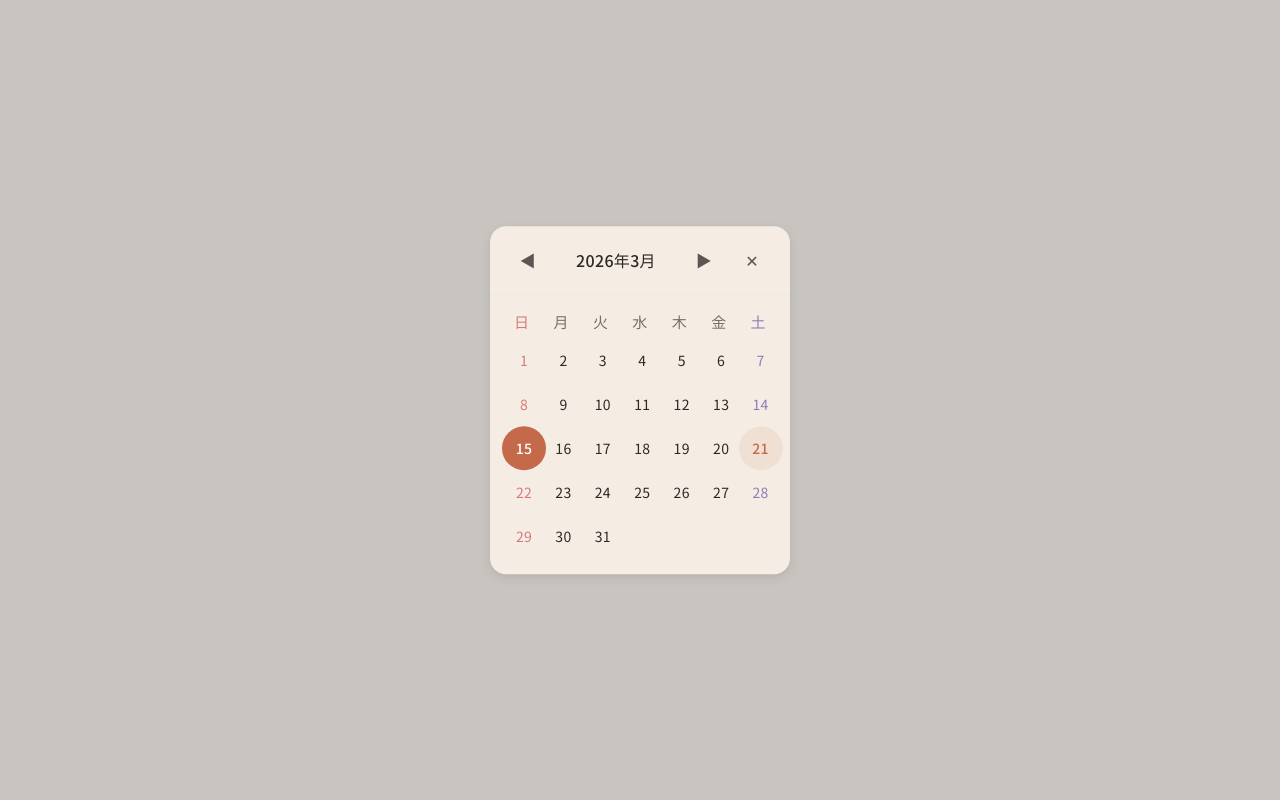
Test: DatePicker › navigates to previous month
The width and height of the screenshot is (1280, 800).
Click the button "◀". click: (528, 260)
box: left=506, top=238, right=550, bottom=282
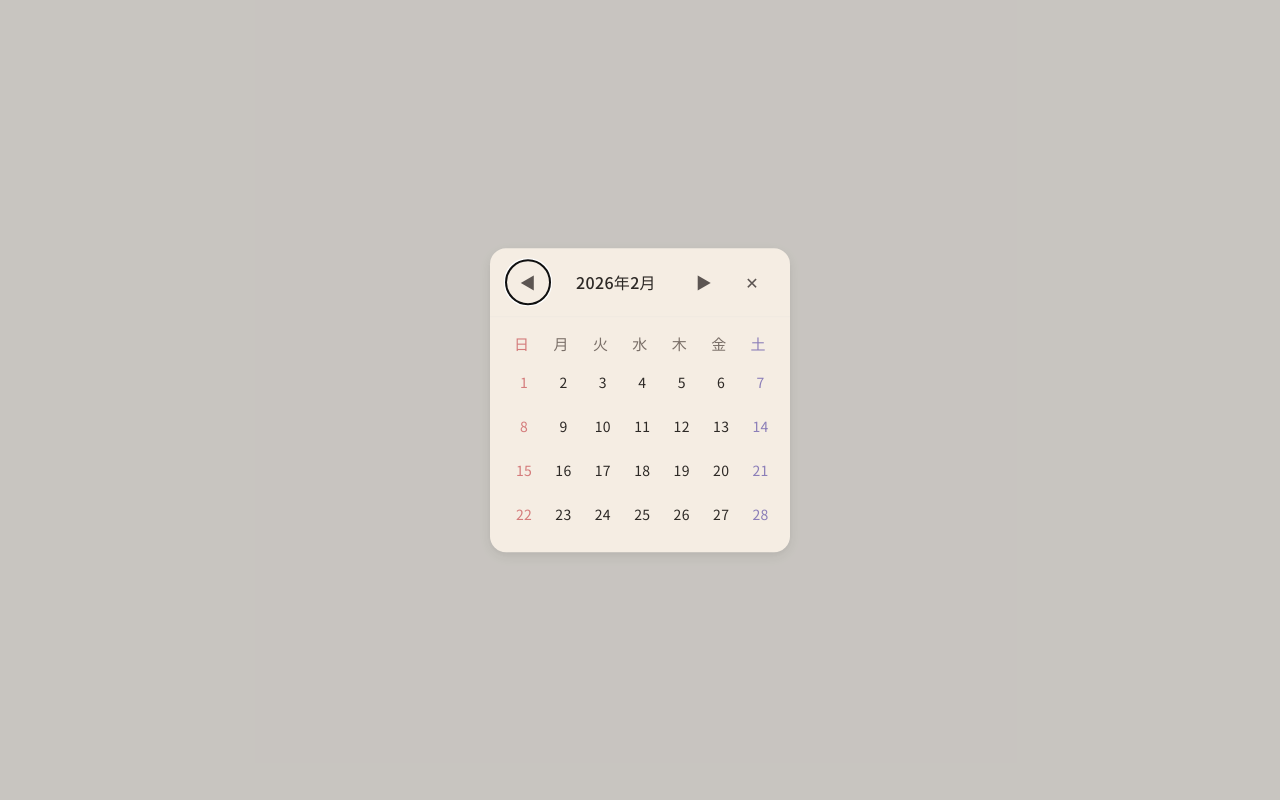
Now the text "2026年2月" is shown, box left=576, top=270, right=656, bottom=294
